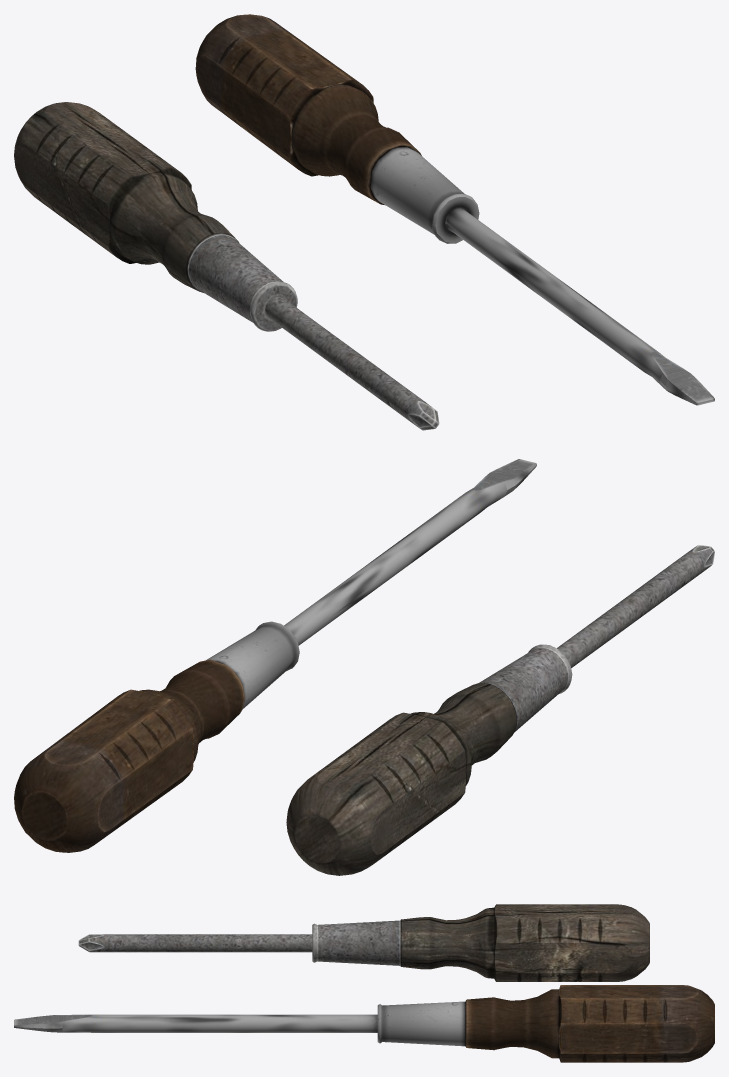
File: screwdrivers_02.glb
The picture shows the model from 3 angles, top to bottom: view 1: azimuth 30°, elevation 25°; view 2: azimuth 150°, elevation 25°; view 3: azimuth 270°, elevation 25°; orthographic projection. The views are drawn at different scales.
Parts seen in each view (by area): view 1: screwdrivers_02_a, screwdrivers_02_b; view 2: screwdrivers_02_a, screwdrivers_02_b; view 3: screwdrivers_02_a, screwdrivers_02_b.
Part boxes in pixels (x1,y1,x2,y2): screwdrivers_02_a: [195, 14, 714, 405]; screwdrivers_02_b: [14, 102, 439, 430]; screwdrivers_02_a: [14, 459, 536, 852]; screwdrivers_02_b: [286, 545, 714, 875]; screwdrivers_02_a: [14, 985, 714, 1062]; screwdrivers_02_b: [78, 904, 649, 981].
Size of the model in its own units: 0.1005 by 0.0271 by 0.2699.
1 material, 1 textured.
